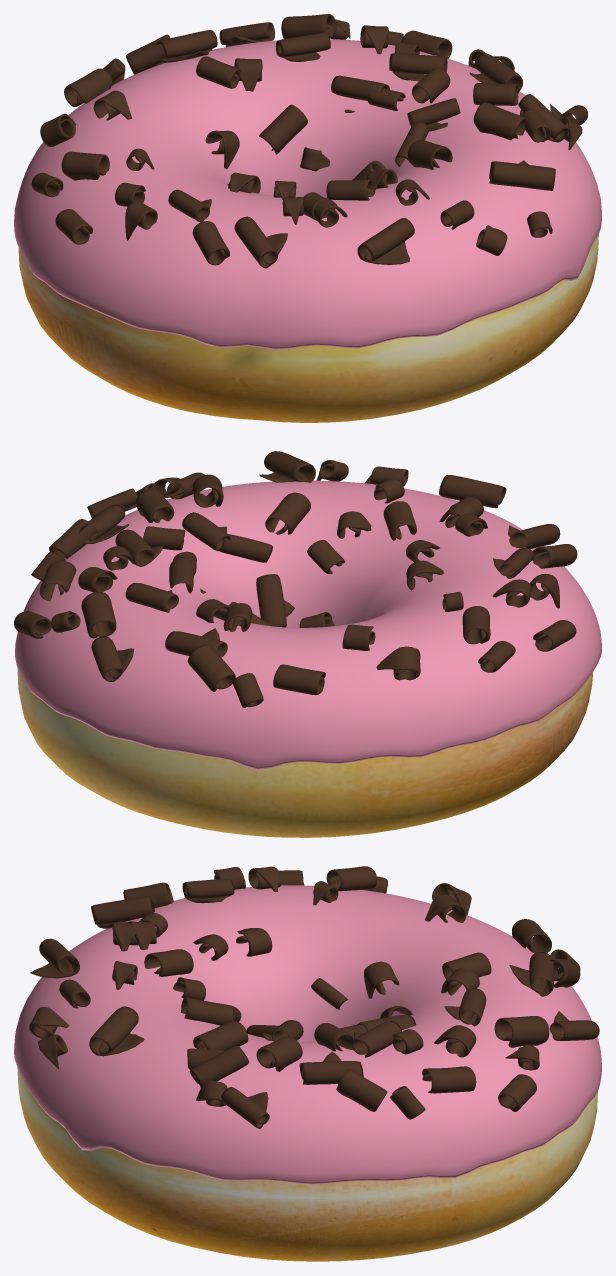
File: strawberry dark curls.glb
The picture shows the model from 3 angles, top to bottom: view 1: azimuth 30°, elevation 25°; view 2: azimuth 150°, elevation 25°; view 3: azimuth 270°, elevation 25°; orthographic projection. The views are drawn at different scales.
Parts seen in each view (by area): view 1: chocolate.002, choco & straw, Torus; view 2: chocolate.002, choco & straw, Torus; view 3: chocolate.002, choco & straw, Torus.
Part boxes in pixels (x1,y1,x2,y2): chocolate.002: (14, 39, 601, 349); choco & straw: (31, 14, 587, 268); Torus: (18, 234, 598, 422); chocolate.002: (15, 480, 601, 769); choco & straw: (14, 451, 577, 707); Torus: (17, 668, 592, 837); chocolate.002: (14, 885, 601, 1184); choco & straw: (29, 866, 599, 1128); Torus: (17, 1067, 597, 1261).
Bounding box in the file's own units: 0.1988 × 0.0804 × 0.1971.
Materials: 3 (1 with a texture image).
